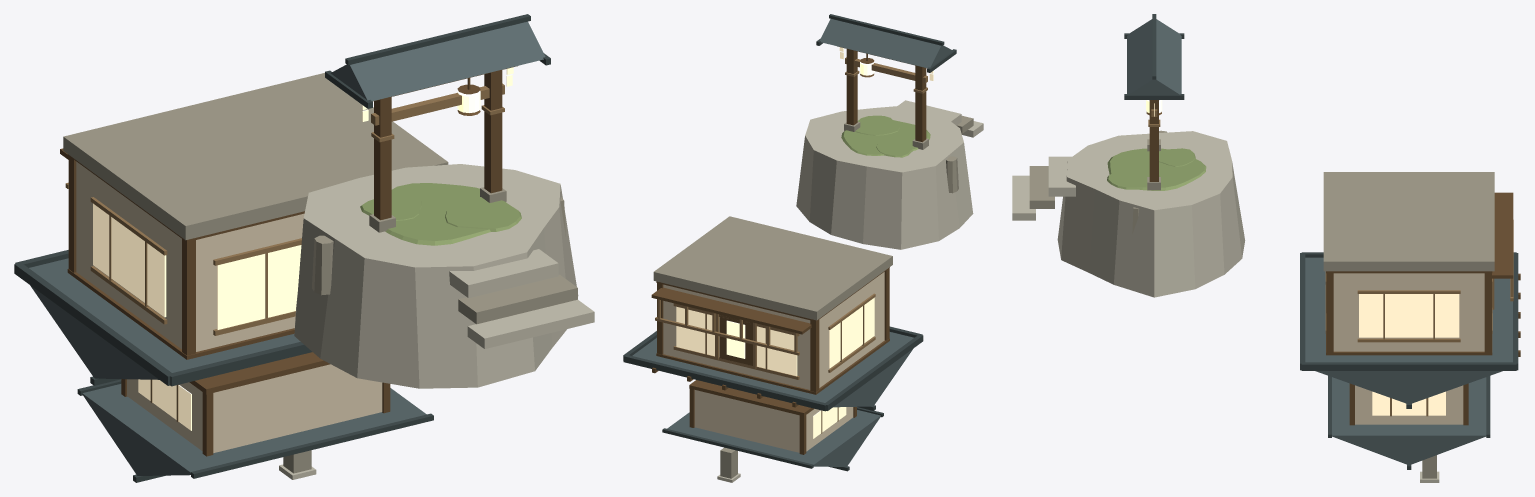
The model's file is reflection-house.glb.
3 renders of one model, left to right at view 1: azimuth 30°, elevation 25°; view 2: azimuth 150°, elevation 25°; view 3: azimuth 270°, elevation 25°, orthographic. The views are drawn at different scales.
Visible parts, largest first — view 1: RH_Stone, RH_StoneDark, RH_Roof, RH_Wall, RH_Wood, RH_Paper, RH_RoofDark, RH_Moss, RH_WoodLight; view 2: RH_Stone, RH_StoneDark, RH_Roof, RH_Wall, RH_Wood, RH_Paper, RH_RoofDark, RH_WoodLight, RH_Moss, RH_Glow; view 3: RH_Stone, RH_StoneDark, RH_Roof, RH_Wall, RH_Wood, RH_Paper, RH_RoofDark, RH_Moss, RH_WoodLight.
Part boxes in pixels (x1,y1,x2,y2): RH_Stone: (279,164,594,479); RH_StoneDark: (63,73,577,473); RH_Roof: (29,21,545,475); RH_Wall: (76,161,382,452); RH_Wood: (60,66,517,456); RH_Paper: (93,67,513,430); RH_RoofDark: (14,14,550,482); RH_Moss: (360,183,521,245); RH_WoodLight: (65,83,504,422); RH_Stone: (717,100,983,482); RH_StoneDark: (653,115,973,478); RH_Roof: (632,19,952,466); RH_Wall: (663,272,884,452); RH_Wood: (651,46,926,454); RH_Paper: (676,47,933,438); RH_RoofDark: (623,14,956,471); RH_WoodLight: (655,57,927,433); RH_Moss: (841,115,930,157); RH_Glow: (726,62,874,358); RH_Stone: (1012,131,1439,482); RH_StoneDark: (1029,130,1494,478); RH_Roof: (1127,19,1512,465); RH_Wall: (1333,273,1484,424); RH_Wood: (1146,100,1520,425); RH_Paper: (1154,103,1459,415); RH_RoofDark: (1124,14,1518,469); RH_Moss: (1107,148,1206,190); RH_WoodLight: (1148,109,1513,416).
Size of the model in its own units: 5.84 by 10.05 by 11.17.
